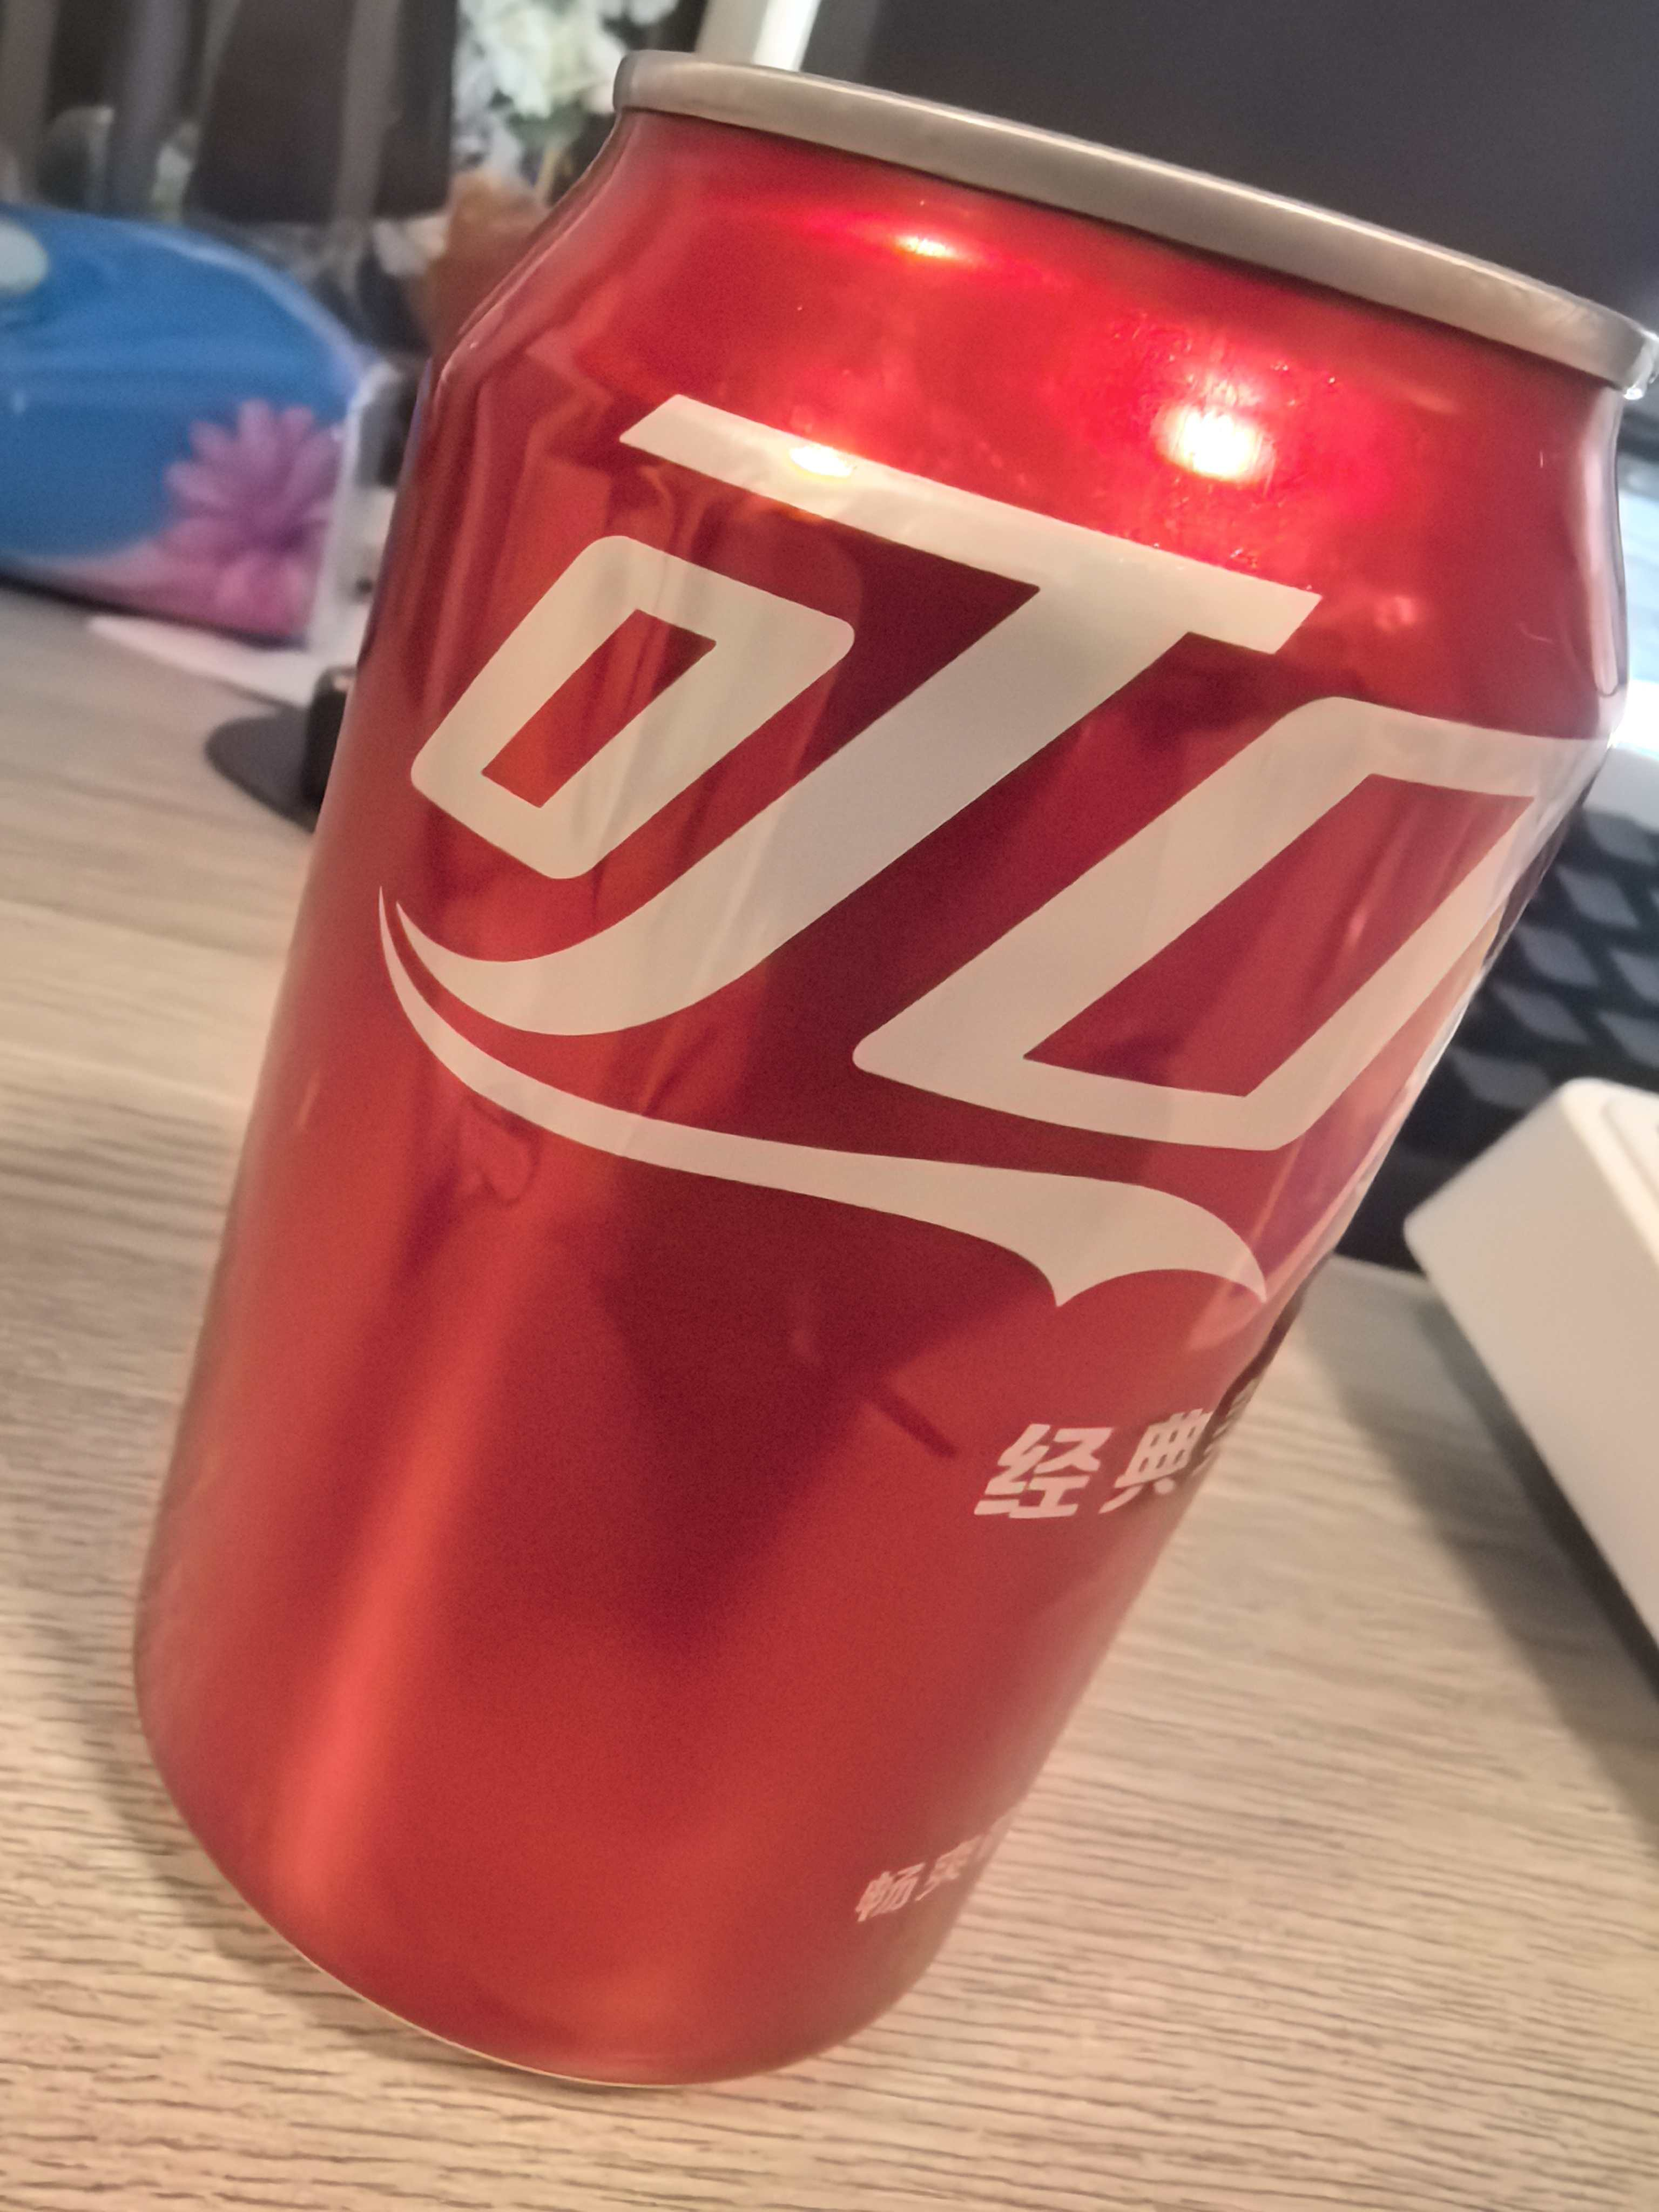可乐: (145, 30, 1640, 2102)
